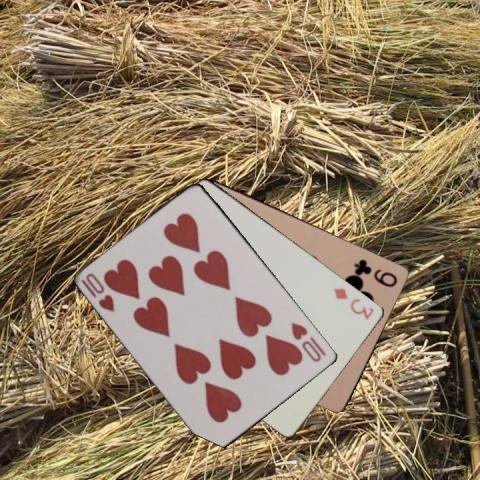10h: (288, 319, 329, 364), (78, 270, 117, 314)
3d: (331, 284, 376, 320)
9c: (352, 256, 400, 289)
